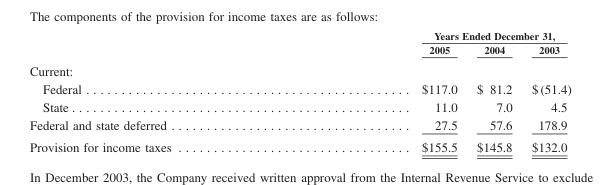table: (28, 29, 570, 154)
table column: (28, 29, 295, 154), (295, 29, 466, 154), (466, 29, 521, 154), (521, 29, 570, 154)
table column header: (28, 29, 570, 59)
table projected row header: (28, 59, 570, 79)
table row: (28, 59, 570, 79), (28, 115, 570, 135), (28, 135, 570, 154), (28, 79, 570, 97), (28, 97, 570, 115), (28, 42, 570, 59), (28, 29, 570, 42)
table spanning cell: (295, 29, 570, 42)
